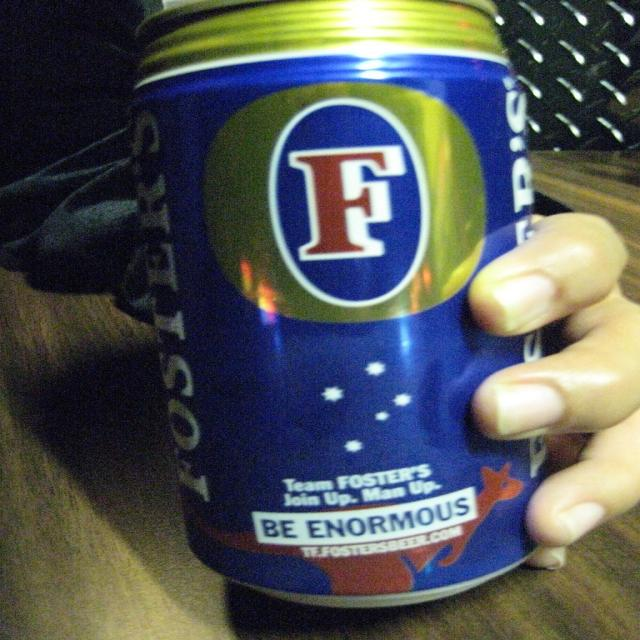fosters: (196, 78, 494, 328)
